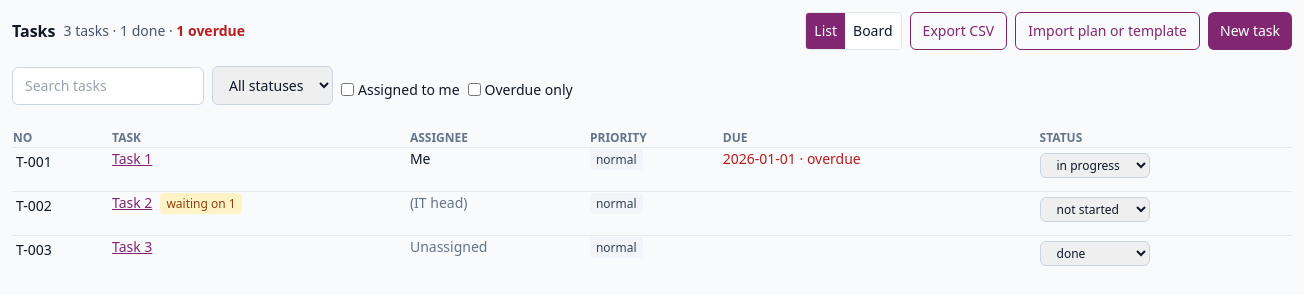
it: a manager sees counts, the list, waiting-on and overdue markers, and can switch to the board
Expected: the text "3 tasks · 1 done · 1 overdue" is shown, left=64, top=21, right=245, bottom=41
Expected: the text "1 overdue" is shown, left=176, top=21, right=245, bottom=40
Click the button "Board": [873, 31] box left=845, top=13, right=900, bottom=49
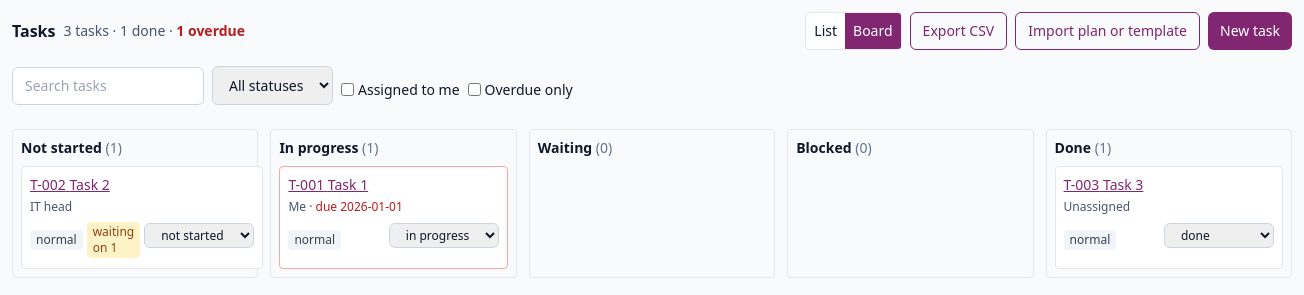
Expected: the number of elements named "column" is 5, left=12, top=129, right=258, bottom=278; left=270, top=129, right=517, bottom=278; left=529, top=129, right=775, bottom=278; left=787, top=129, right=1034, bottom=278; left=1046, top=129, right=1292, bottom=278
